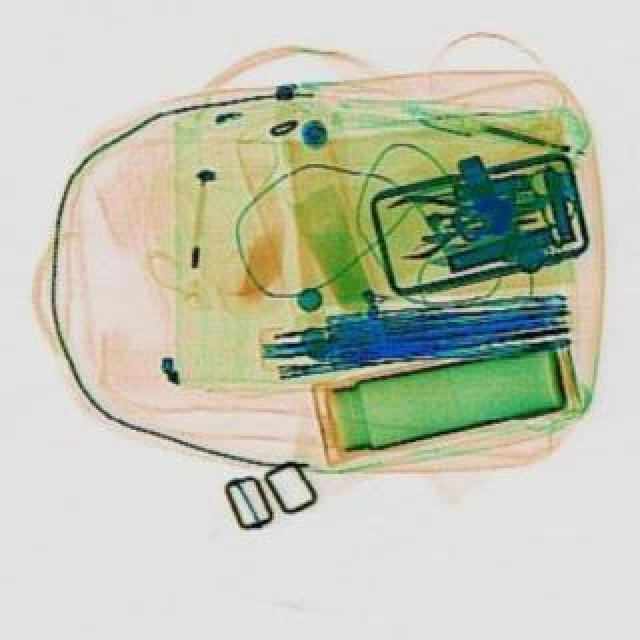pliers: (474, 160, 582, 248)
wrench: (380, 168, 514, 260)
